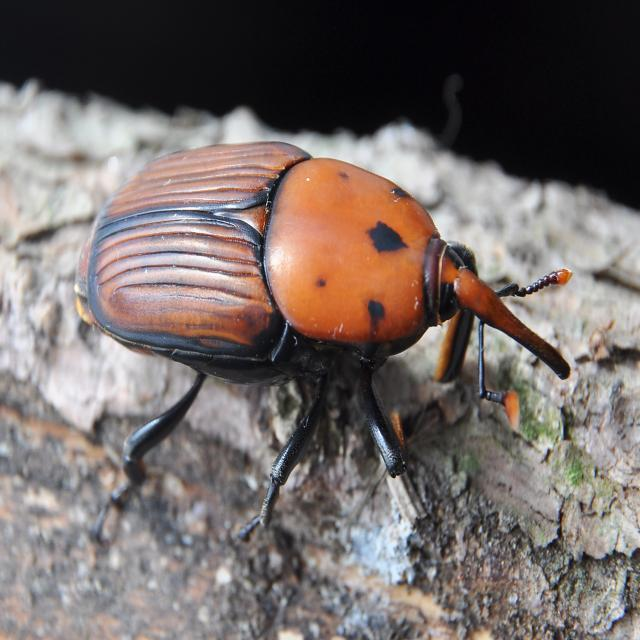Red-palm-weevil: (77, 124, 520, 449)
